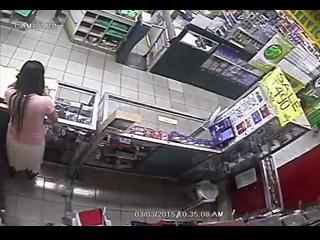Normal: (5, 60, 59, 180)
